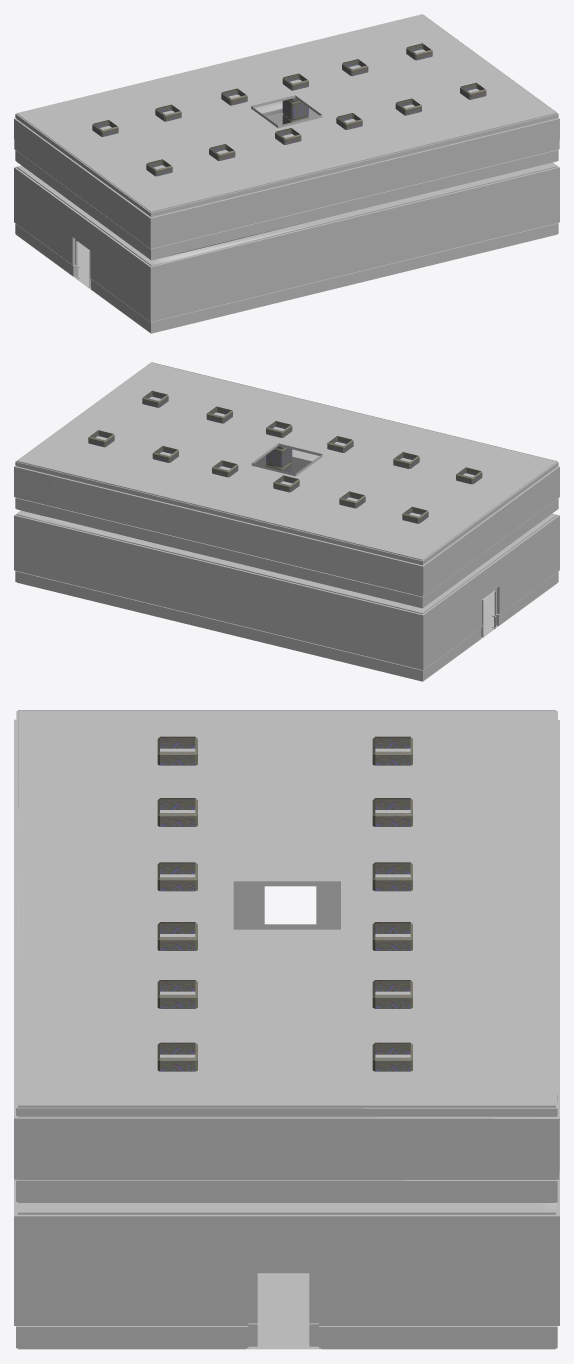
File: Kazadum-1.FBX
The picture shows the model from 3 angles, top to bottom: view 1: azimuth 30°, elevation 25°; view 2: azimuth 150°, elevation 25°; view 3: azimuth 270°, elevation 25°; orthographic projection. The views are drawn at different scales.
Parts seen in each view (by area): view 1: Object007, sol040, grand mur007, pillier084, mur042, Object006, sol037; view 2: Object006, sol040, grand mur007, pillier084, Object007, mur042, sol037; view 3: sol040, grand mur008, pillier084, mur043, sol037, Object007, mur042, Object006, grand mur007.
Part boxes in pixels (left/top/right/bottom): Object007: left=150, top=113, right=559, bottom=333; sol040: left=16, top=14, right=556, bottom=211; grand mur007: left=14, top=113, right=154, bottom=332; pillier084: left=92, top=43, right=486, bottom=176; mur042: left=68, top=231, right=95, bottom=292; Object006: left=15, top=14, right=421, bottom=167; sol037: left=17, top=235, right=150, bottom=333; Object006: left=14, top=461, right=423, bottom=681; sol040: left=17, top=362, right=556, bottom=559; grand mur007: left=419, top=461, right=559, bottom=680; pillier084: left=88, top=390, right=482, bottom=523; Object007: left=152, top=362, right=558, bottom=515; mur042: left=476, top=581, right=504, bottom=641; sol037: left=423, top=583, right=556, bottom=681; sol040: left=18, top=710, right=555, bottom=1105; grand mur008: left=14, top=1105, right=559, bottom=1349; pillier084: left=157, top=736, right=412, bottom=1071; mur043: left=230, top=1265, right=337, bottom=1349; sol037: left=246, top=1275, right=321, bottom=1349; Object007: left=14, top=711, right=40, bottom=1326; mur042: left=236, top=886, right=340, bottom=924; Object006: left=533, top=711, right=559, bottom=1326; grand mur007: left=14, top=710, right=558, bottom=924.
Bounding box in the file's own units: 1756 × 526 × 1015.
